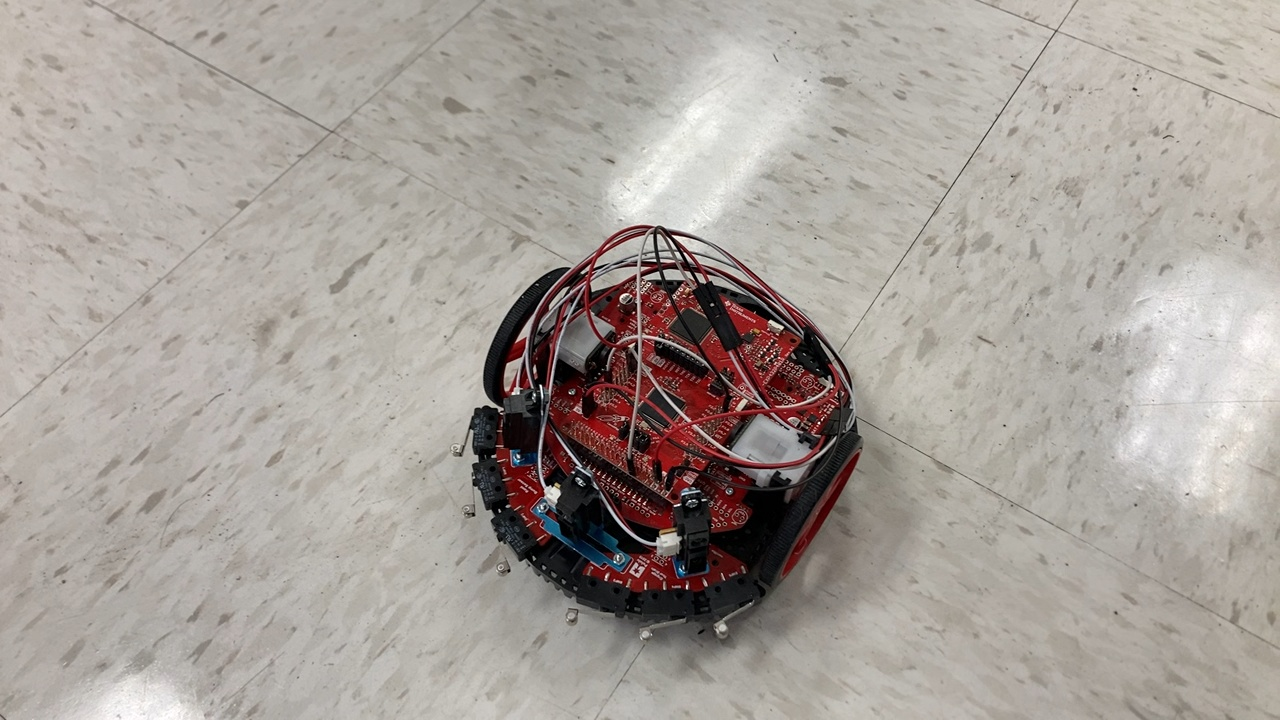robot: (437, 222, 871, 653)
